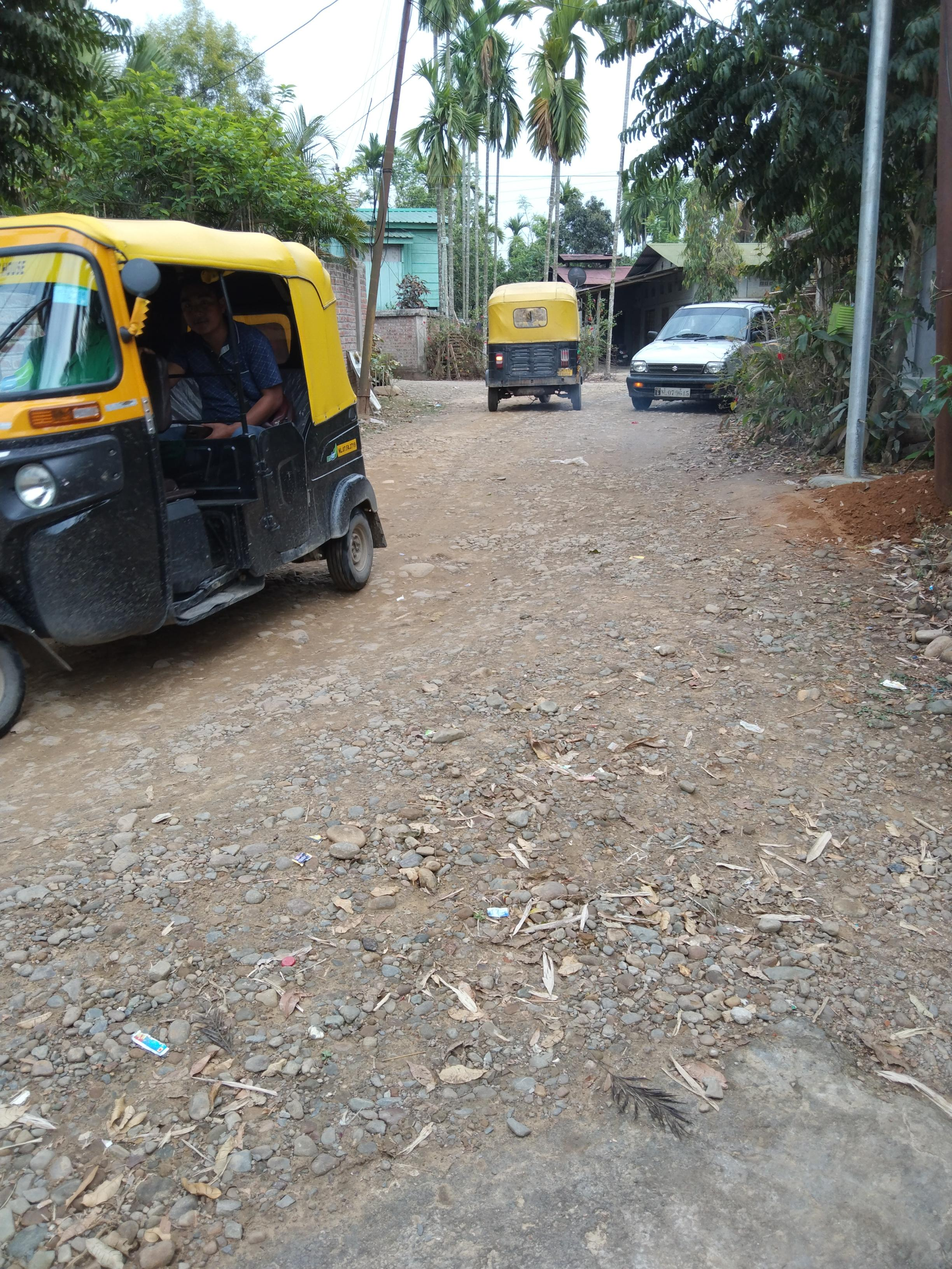non-ambulance: (0, 228, 449, 709), (445, 213, 615, 461)
